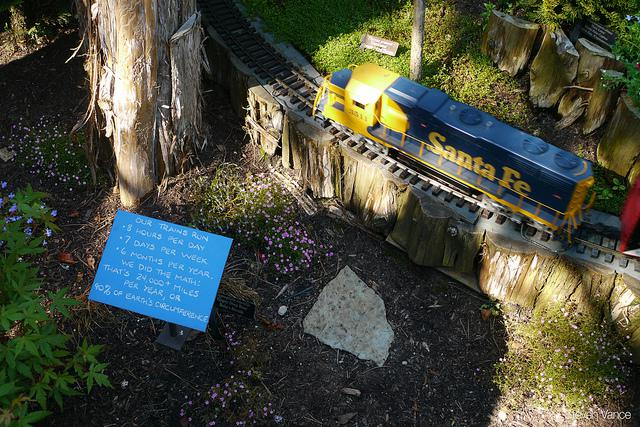Train: (310, 60, 598, 246)
